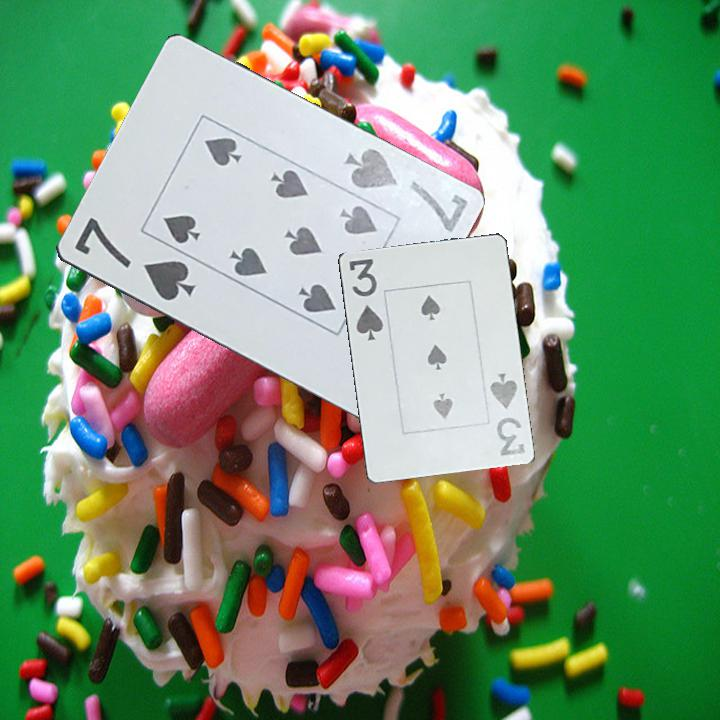3s: (486, 370, 528, 461), (346, 255, 387, 344)
7s: (339, 144, 471, 236), (70, 213, 198, 304)
